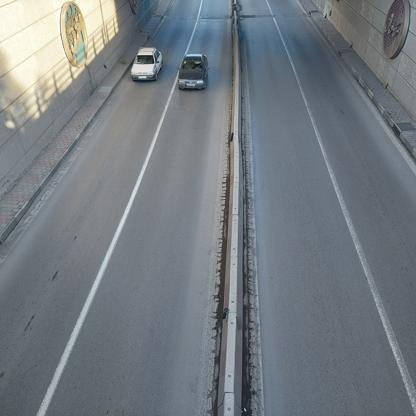Car: (176, 53, 210, 92), (134, 50, 160, 83)
